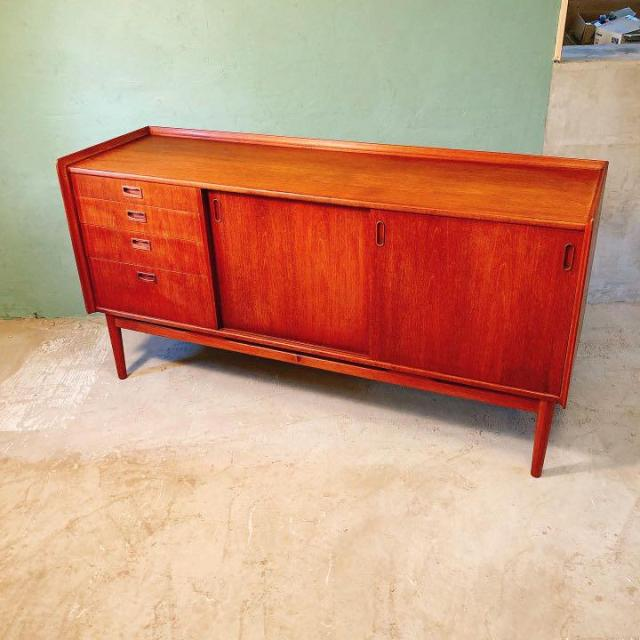vintage shelf: (55, 116, 616, 482)
